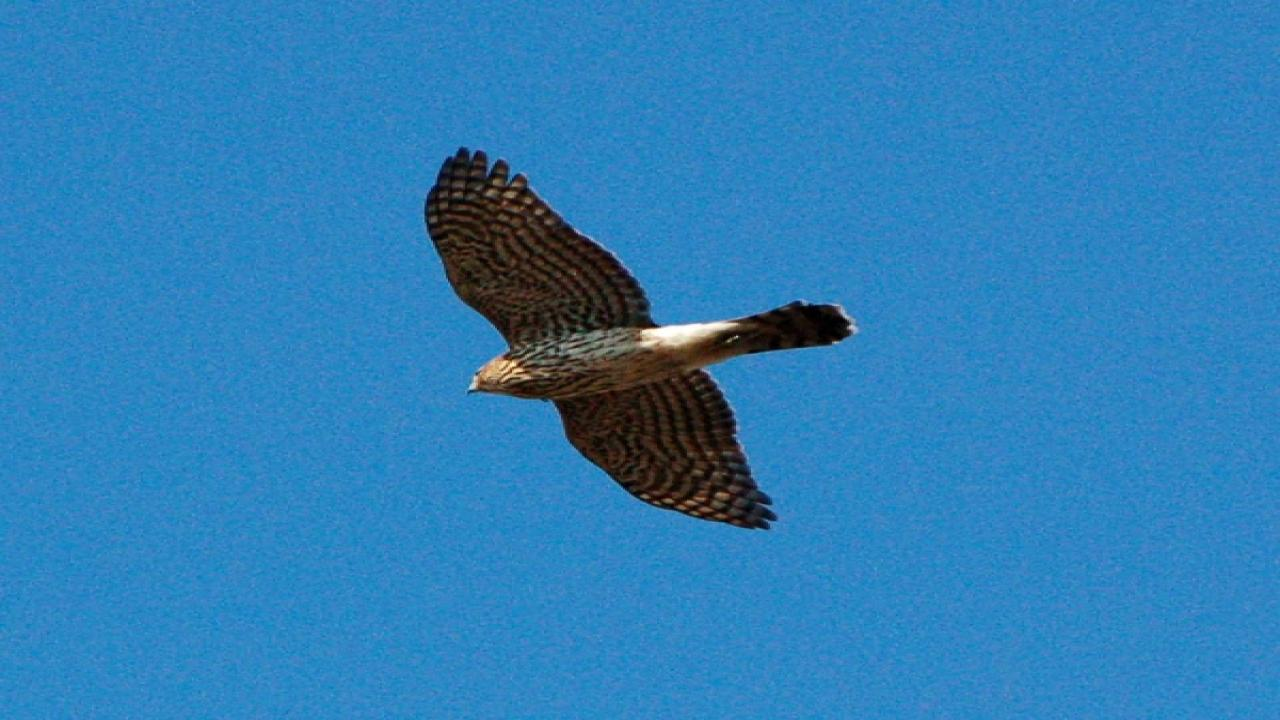Bird: (413, 141, 871, 539)
